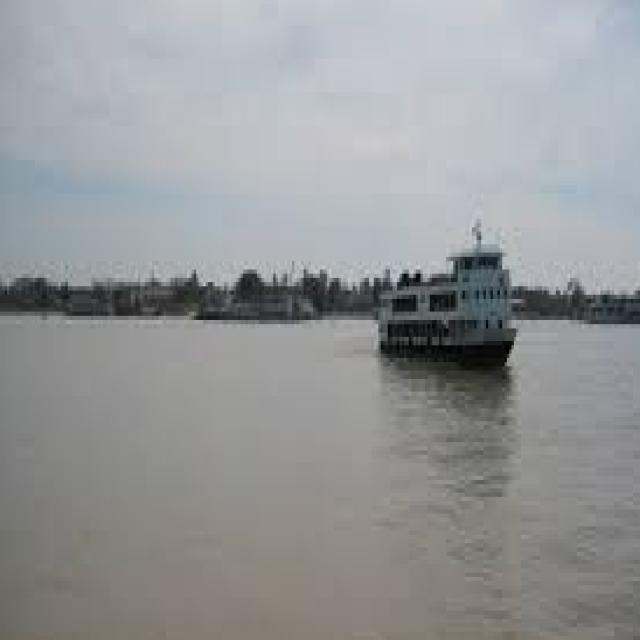passenger ship: (380, 228, 520, 374)
